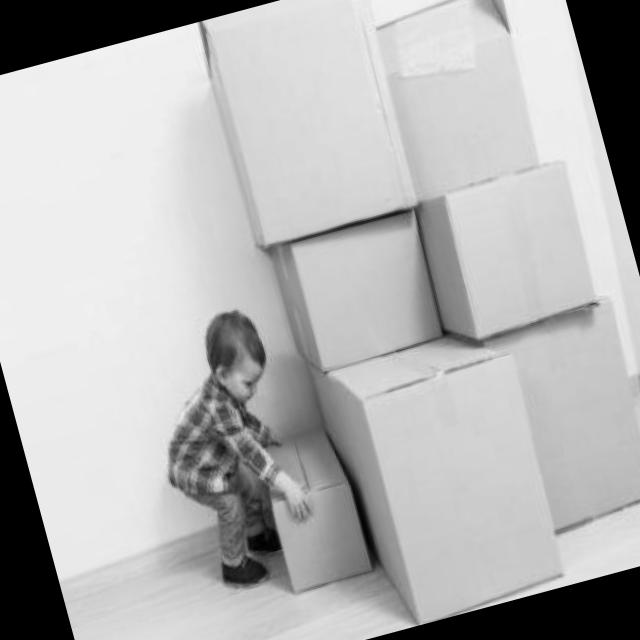box: (308, 320, 569, 636), (196, 0, 422, 256), (359, 0, 560, 200), (414, 154, 614, 353), (261, 212, 455, 387), (500, 302, 640, 537), (242, 407, 382, 605)
